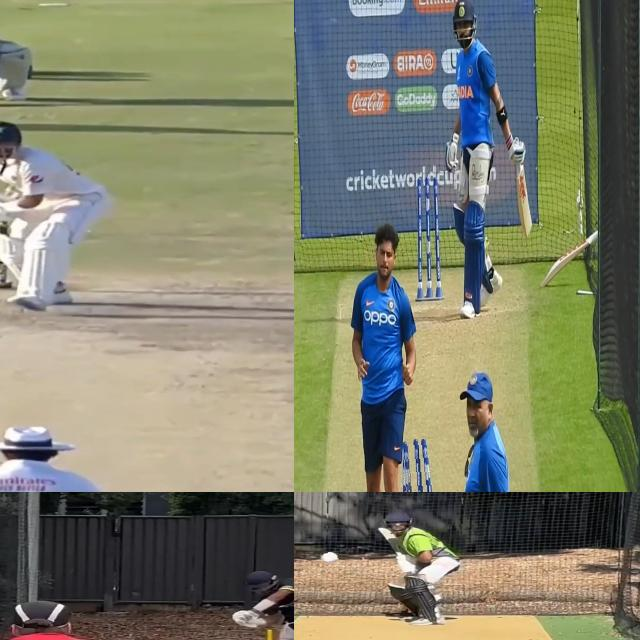Cricket ball: (321, 552, 339, 564)
Stumps: (417, 176, 442, 303), (402, 439, 434, 492)
